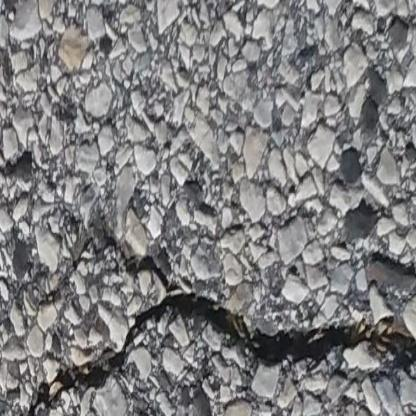Cracks: (8, 252, 416, 416), (13, 228, 123, 316)
